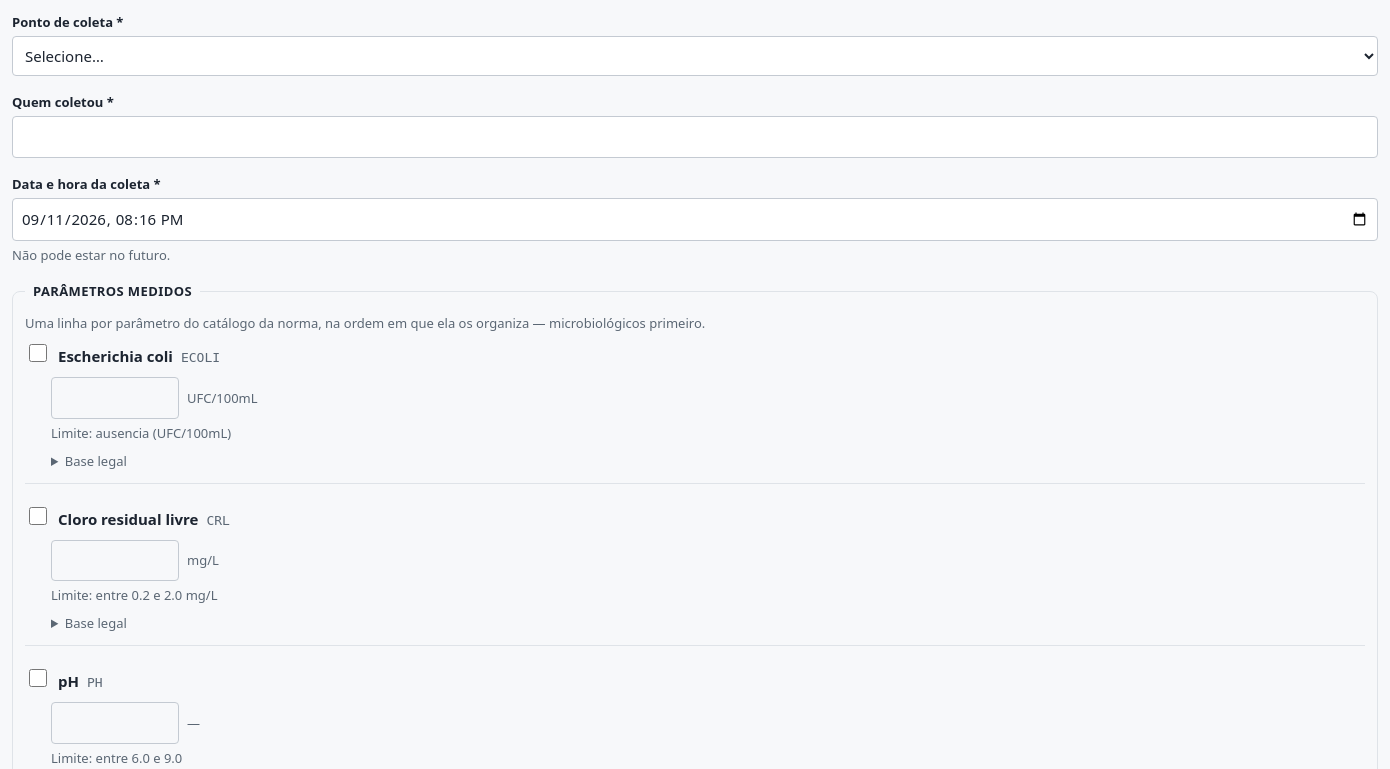
Test case: FormularioColeta › mostra a previa dentro do limite e aceita virgula decimal
Click the 2nd checkbox.
click(38, 516)  # box [29,507,47,525]
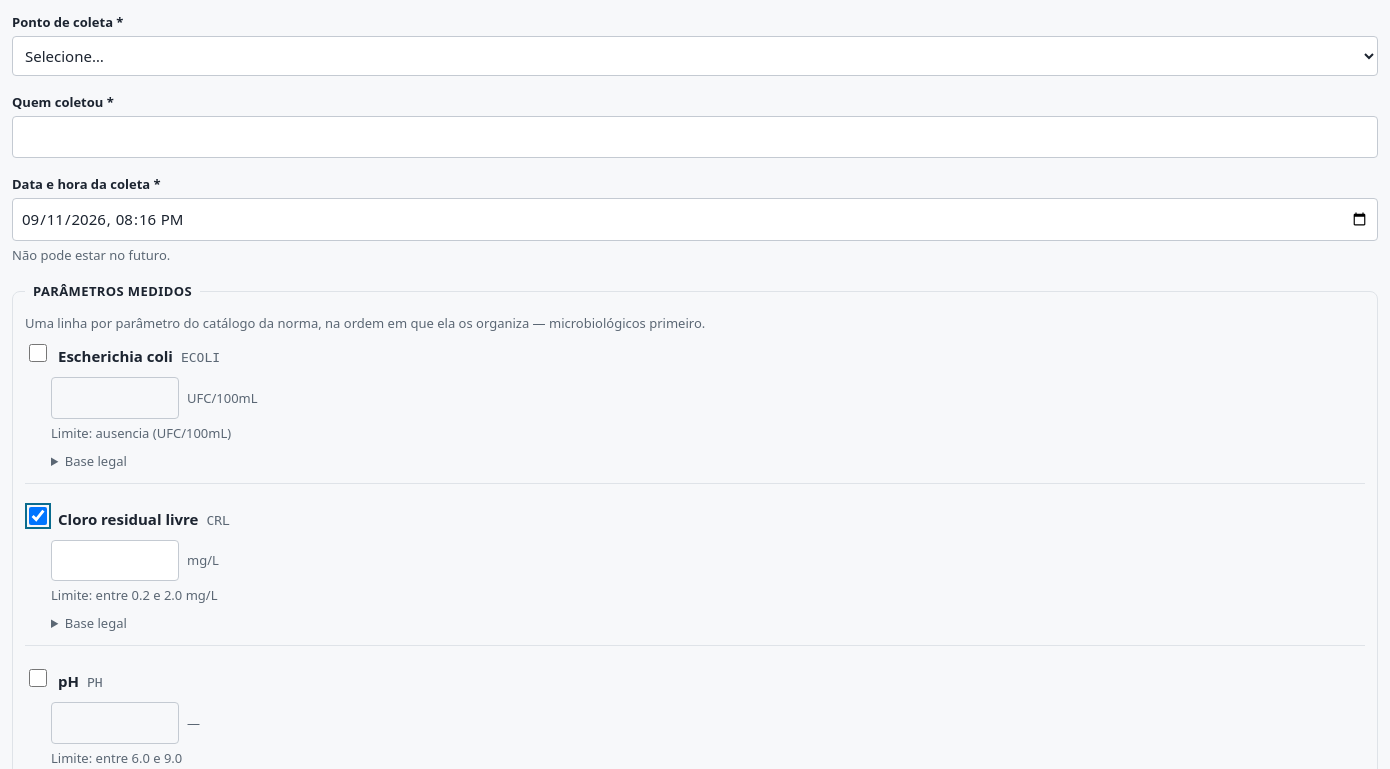
Type "0,8" into the field named "Valor medido de Cloro" below "Cloro residual livre".
click(115, 561); type("0,8")  # box [51,540,179,581]
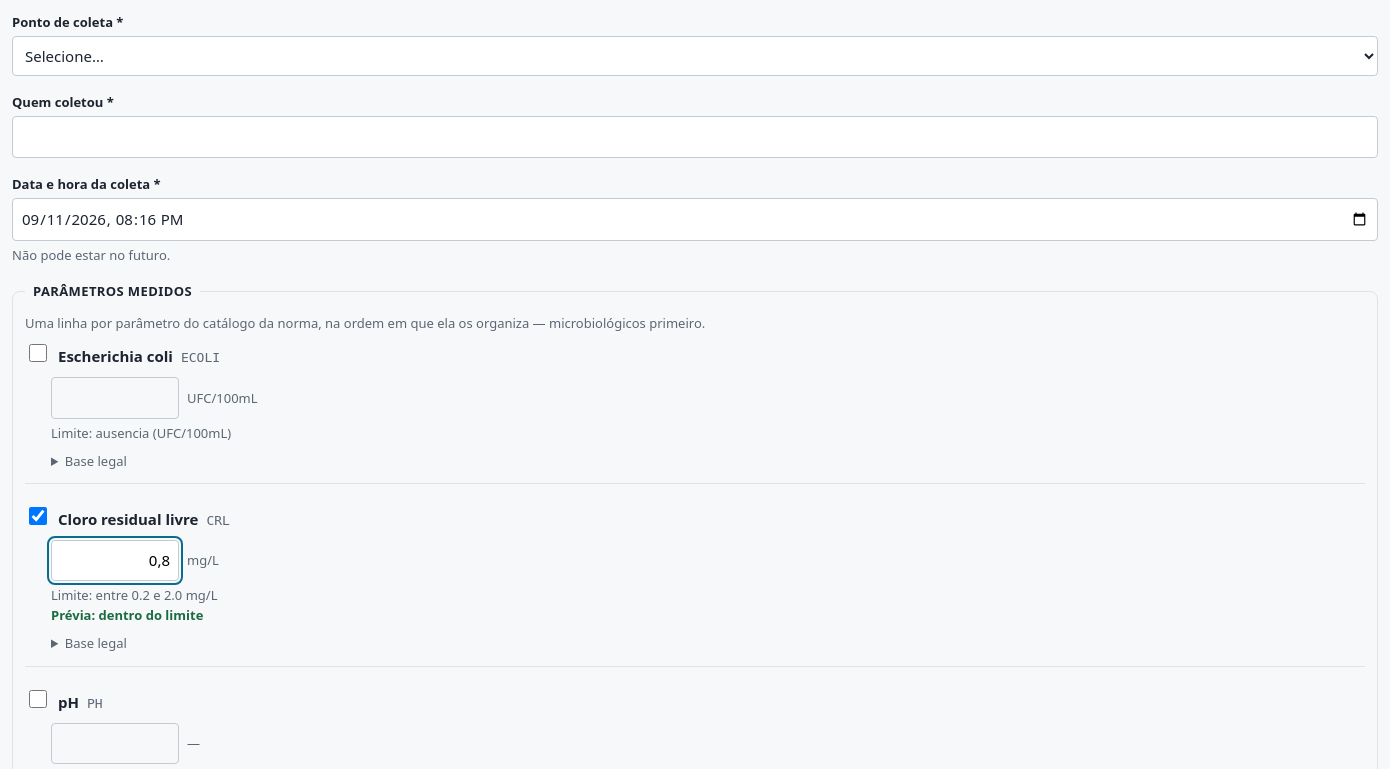
Expected: the list item that starts with "Cloro residual livre" shows "Prévia: dentro do limite", [51,606,203,624]
